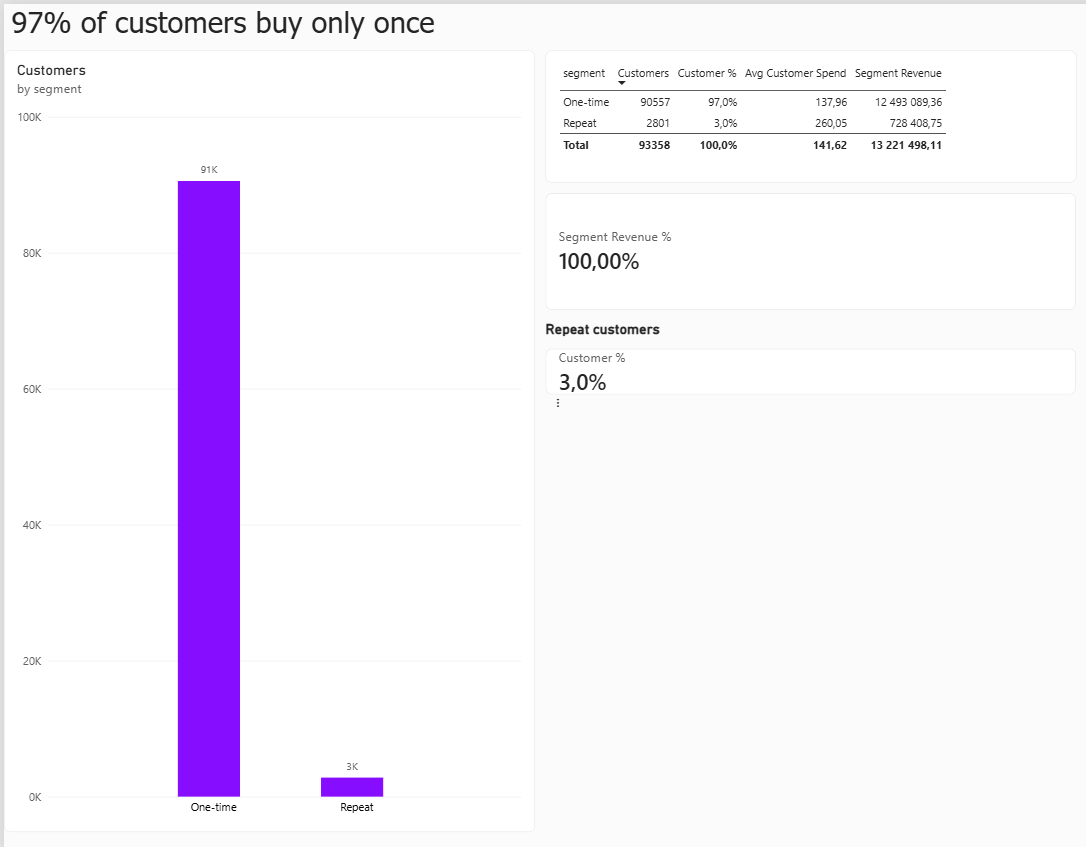

The dashboard page shown, as its layout file describes it:
{"tool":"powerbi","page":{"name":"Retention","canvas":[1920,1080],"ordinal":2},"visuals":[{"type":"clusteredColumnChart","fields":{"Category":["vw_customer_summary.segment"],"Y":["vw_customer_summary.Customers"]},"box":[0,59.6,680.8,1001.9],"z":0},{"type":"tableEx","fields":{"Values":["vw_customer_summary.segment","vw_customer_summary.Customers","vw_customer_summary.Customer %","vw_customer_summary.Avg Customer Spend","vw_customer_summary.Segment Revenue"]},"box":[694.2,59.6,680.8,169.2],"z":1000},{"type":"cardVisual","title":"Repeat customers","fields":{"Data":["vw_customer_summary.Customer %"],"Rows":["vw_customer_summary.segment"]},"box":[694.2,405.8,680.4,115.7],"z":2000},{"type":"textbox","box":[8.7,0,589.1,58.7],"z":3000},{"type":"cardVisual","fields":{"Data":["vw_customer_summary.Segment Revenue %"]},"box":[694.2,242.3,680,150],"z":4000}]}

Visuals, with their boxes on the page's 1920x1080 design canvas (x1, y1, x2, y2). These are canvas units, not pixel positions in the 1086x847 screenshot, which may show the page scaled, cropped or inside an application window:
clusteredColumnChart - vw_customer_summary.segment x vw_customer_summary.Customers: [x1=0, y1=60, x2=681, y2=1062]
tableEx - vw_customer_summary.segment x vw_customer_summary.Customers: [x1=694, y1=60, x2=1375, y2=229]
"Repeat customers" cardVisual: [x1=694, y1=406, x2=1375, y2=522]
textbox: [x1=9, y1=0, x2=598, y2=59]
cardVisual - vw_customer_summary.Segment Revenue %: [x1=694, y1=242, x2=1374, y2=392]
